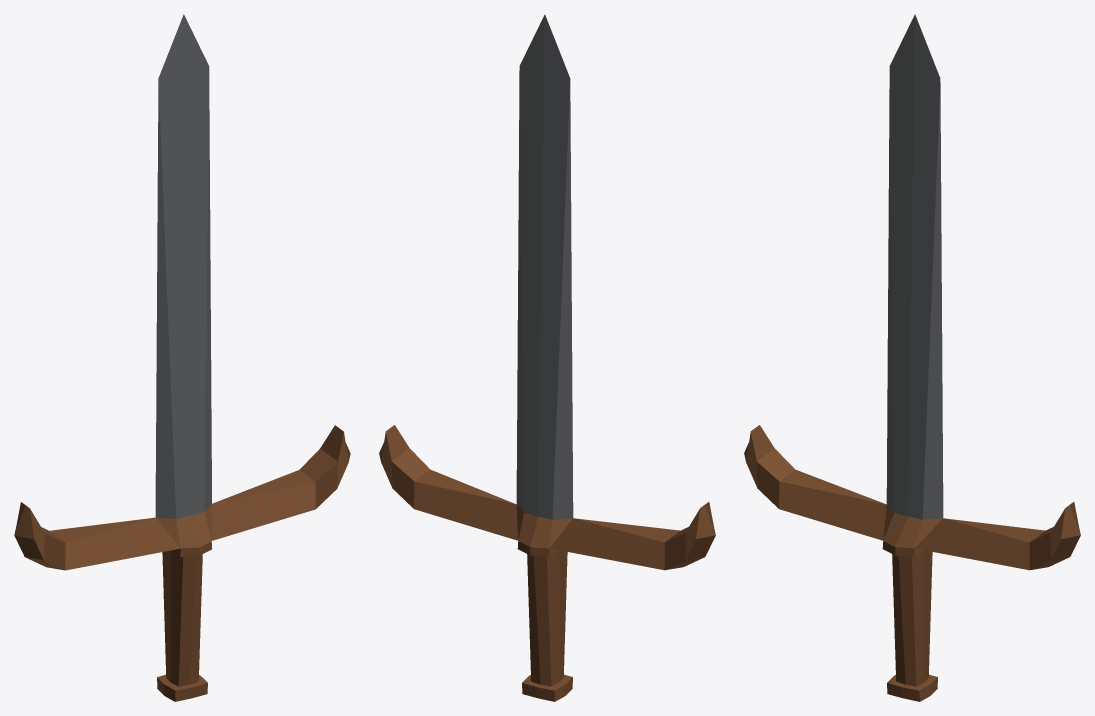
The model's file is sward.fbx.
3 renders of one model, left to right at view 1: azimuth 30°, elevation 25°; view 2: azimuth 150°, elevation 25°; view 3: azimuth 330°, elevation 25°, orthographic.
Visible parts, largest first — view 1: Cube; view 2: Cube; view 3: Cube.
Boxes of the visible parts, box(x1,y1,x2,y2) form: Cube: box(14, 14, 350, 701); Cube: box(379, 14, 715, 701); Cube: box(744, 14, 1080, 701).
Size of the model in its own units: 244 by 470 by 42.94.
